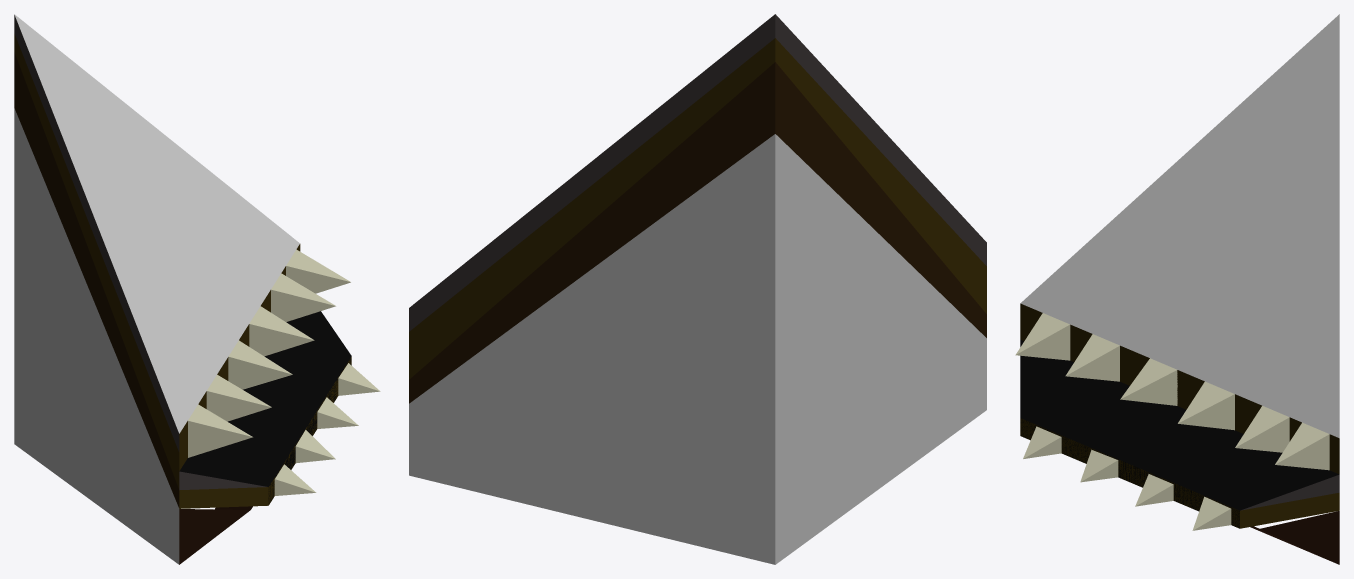
File: model_loc_1665_s.obj
The picture shows the model from 3 angles, left to right: view 1: azimuth 30°, elevation 25°; view 2: azimuth 150°, elevation 25°; view 3: azimuth 270°, elevation 25°; orthographic projection. The views are drawn at different scales.
Visible parts, largest first — view 1: 956; view 2: 956; view 3: 956.
Part boxes in pixels (x1=…): 956: x1=14, y1=14, x2=380, y2=564; 956: x1=409, y1=14, x2=986, y2=564; 956: x1=1015, y1=14, x2=1339, y2=564.
Size of the model in its own units: 136 by 184 by 130.
